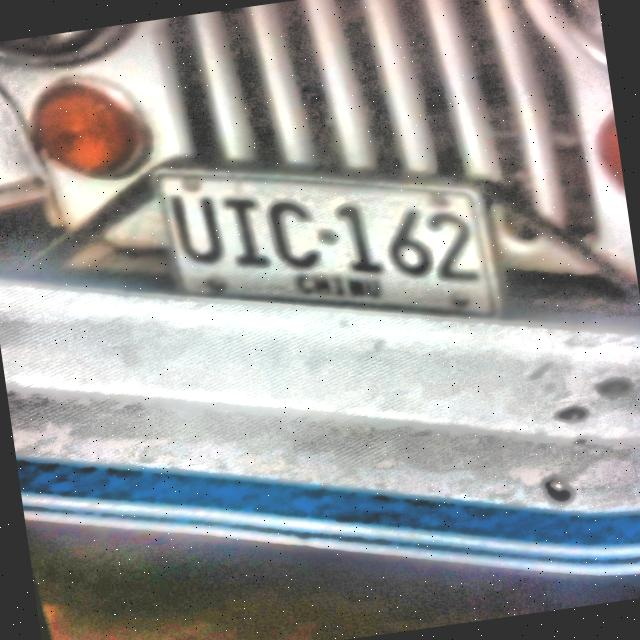1: (332, 203, 393, 275)
2: (427, 212, 485, 284)
6: (384, 204, 435, 280)
C: (263, 199, 324, 270)
I: (219, 196, 276, 267)
U: (166, 194, 230, 265)
